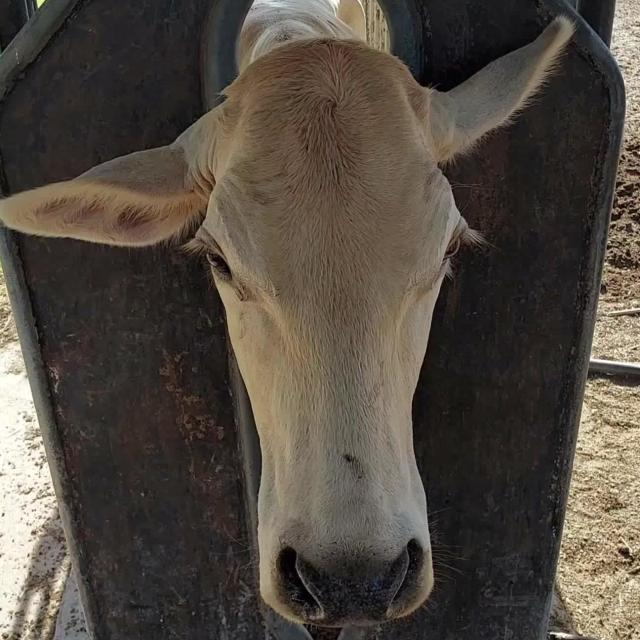cowFace: (195, 39, 466, 626)
